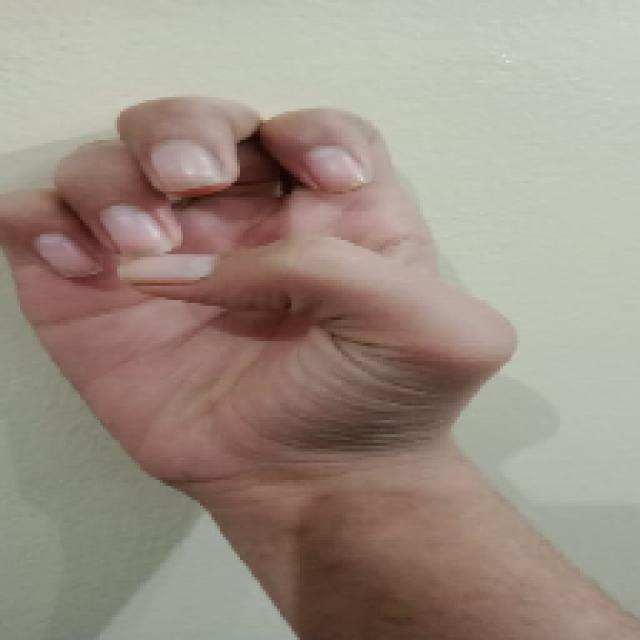Nail: (150, 140, 229, 190), (103, 207, 170, 252), (118, 254, 218, 284), (35, 234, 99, 276), (307, 147, 366, 192)
